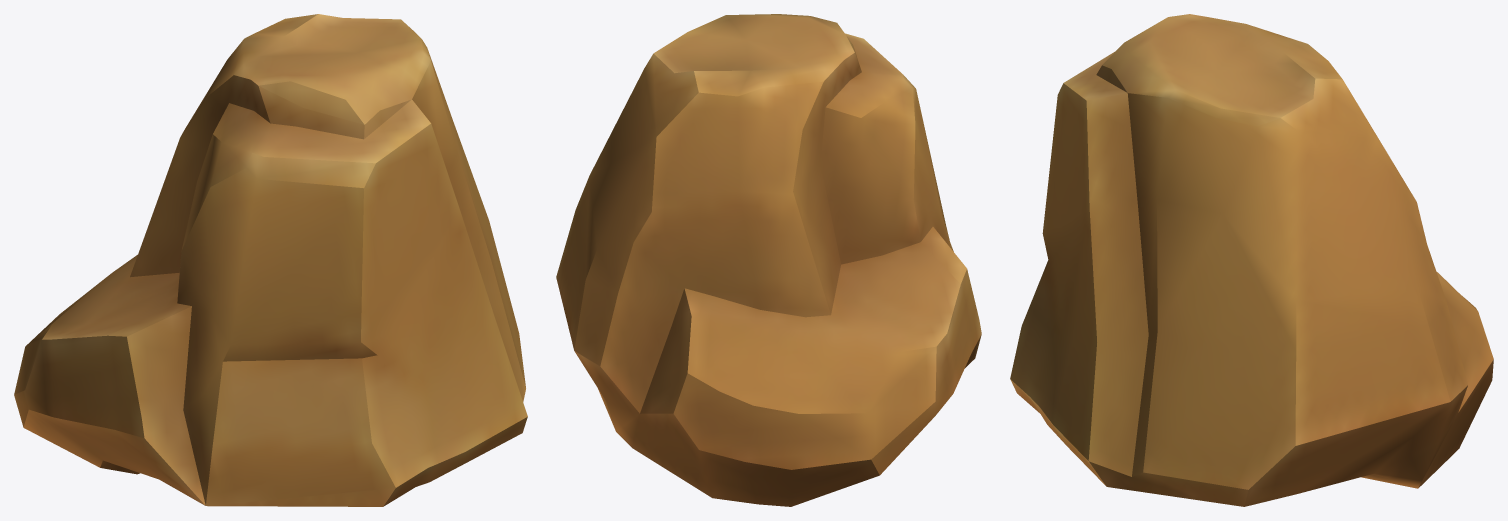
Rendered from rock.glb.
The picture shows the model from 3 angles, left to right: view 1: azimuth 30°, elevation 25°; view 2: azimuth 150°, elevation 25°; view 3: azimuth 270°, elevation 25°; orthographic projection. The views are drawn at different scales.
Parts seen in each view (by area): view 1: Rock_Medium_1; view 2: Rock_Medium_1; view 3: Rock_Medium_1.
Part boxes in pixels (x1=…): Rock_Medium_1: x1=14, y1=14, x2=527, y2=506; Rock_Medium_1: x1=556, y1=14, x2=981, y2=506; Rock_Medium_1: x1=1010, y1=14, x2=1493, y2=506.
Bounding box in the file's own units: 2.2 × 2 × 2.04.
1 material, 1 textured.
